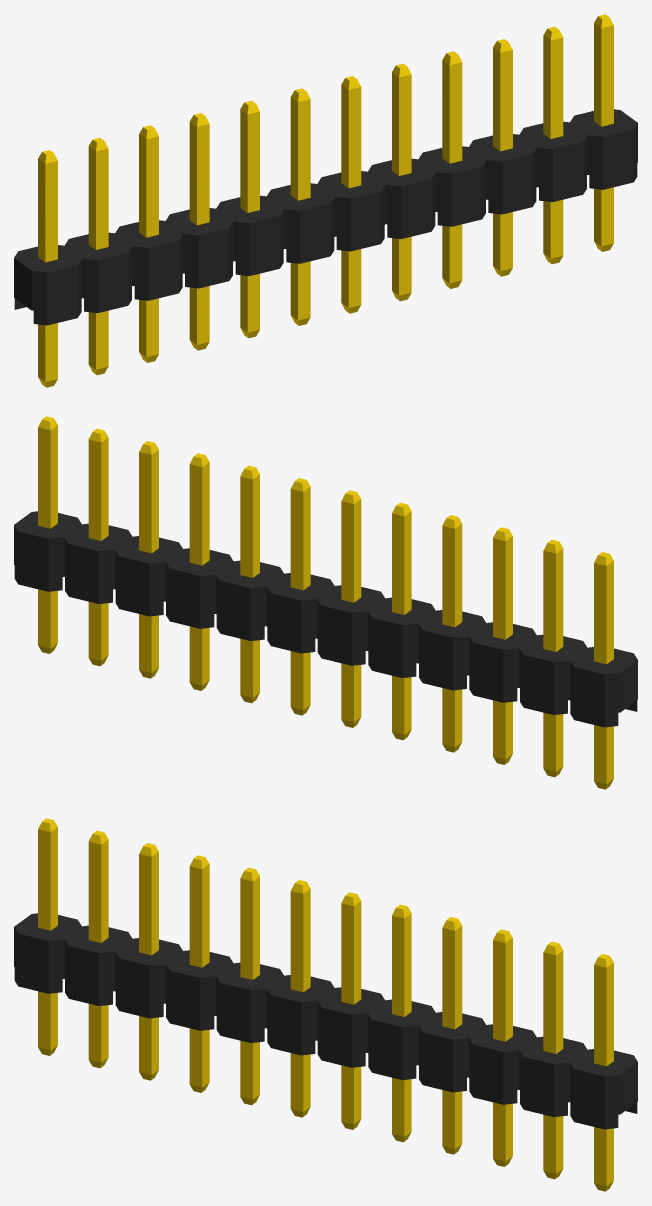
File: PLS2-12.glb
The picture shows the model from 3 angles, top to bottom: view 1: azimuth 30°, elevation 25°; view 2: azimuth 150°, elevation 25°; view 3: azimuth 330°, elevation 25°; orthographic projection.
Visible parts, largest first — view 1: PLS2 (DS1025-01 CONNFLY); view 2: PLS2 (DS1025-01 CONNFLY); view 3: PLS2 (DS1025-01 CONNFLY).
Boxes of the visible parts, x1=… form: PLS2 (DS1025-01 CONNFLY): x1=14, y1=14, x2=637, y2=387; PLS2 (DS1025-01 CONNFLY): x1=14, y1=416, x2=637, y2=789; PLS2 (DS1025-01 CONNFLY): x1=14, y1=818, x2=637, y2=1191.
Bounding box in the file's own units: 0.024 × 0.0088 × 0.002.
